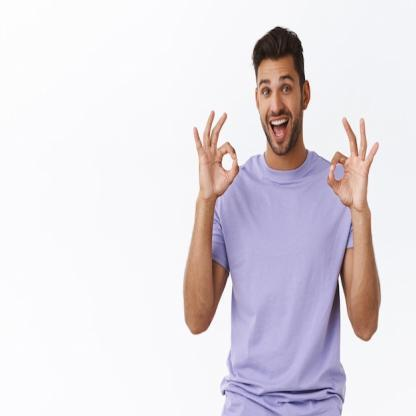ok: (326, 113, 382, 210), (191, 107, 242, 206)
